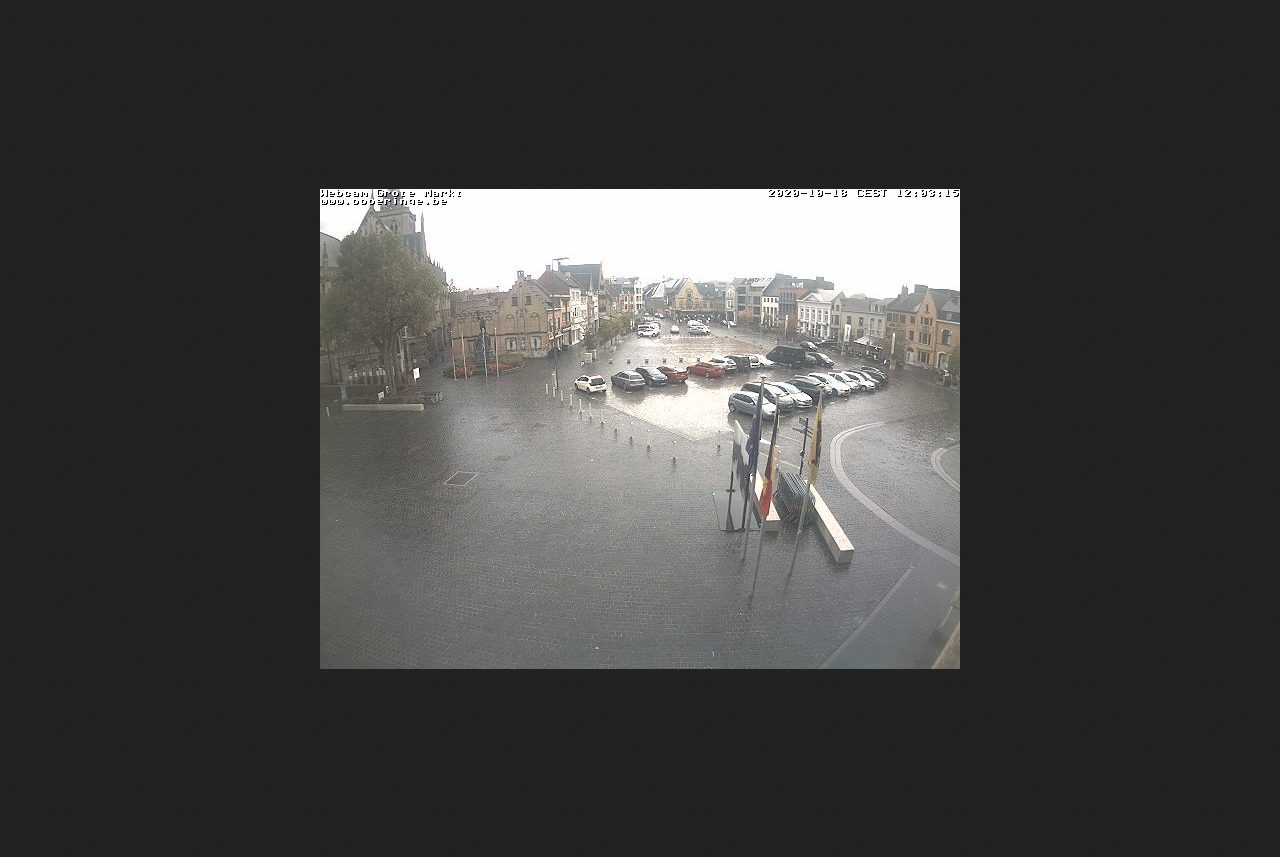no: (757, 407, 782, 527), (804, 398, 830, 495), (747, 388, 765, 472)
